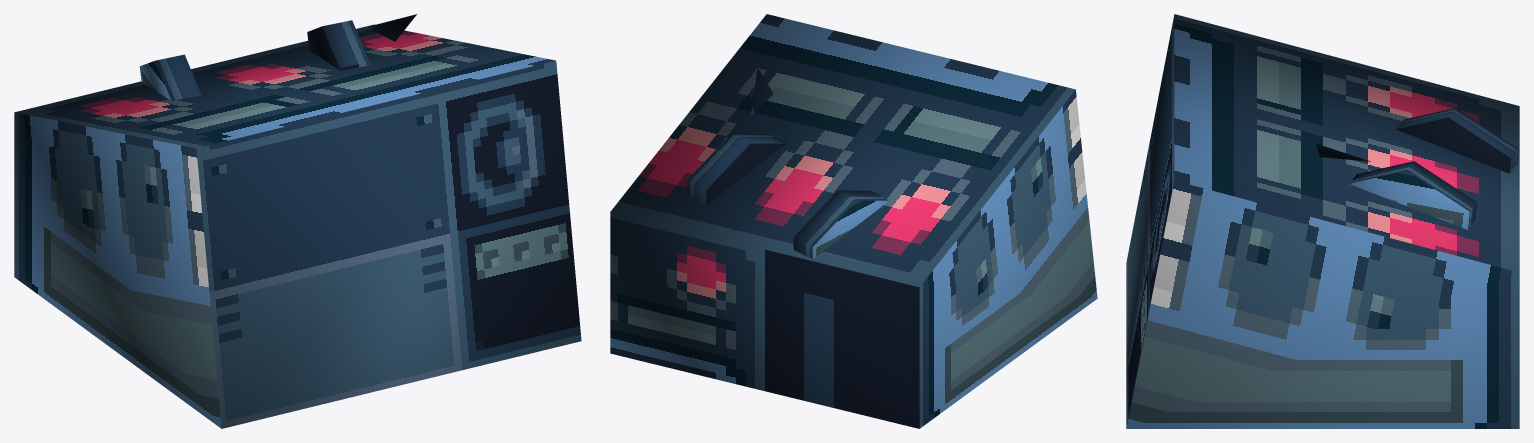
3 views of the same model, side by side, from view 1: azimuth 30°, elevation 25°; view 2: azimuth 150°, elevation 25°; view 3: azimuth 270°, elevation 25° (orthographic). The views are drawn at different scales.
Parts seen in each view (by area): view 1: 3303IMIG07_07; view 2: 3303IMIG07_07; view 3: 3303IMIG07_07.
Boxes of the visible parts, <box> form: 3303IMIG07_07: <box>14,14,581,428</box>; 3303IMIG07_07: <box>610,14,1097,428</box>; 3303IMIG07_07: <box>1126,14,1519,428</box>.
Bounding box in the file's own units: 0.8501 × 0.6089 × 0.8481.
Materials: 1 (1 with a texture image).
